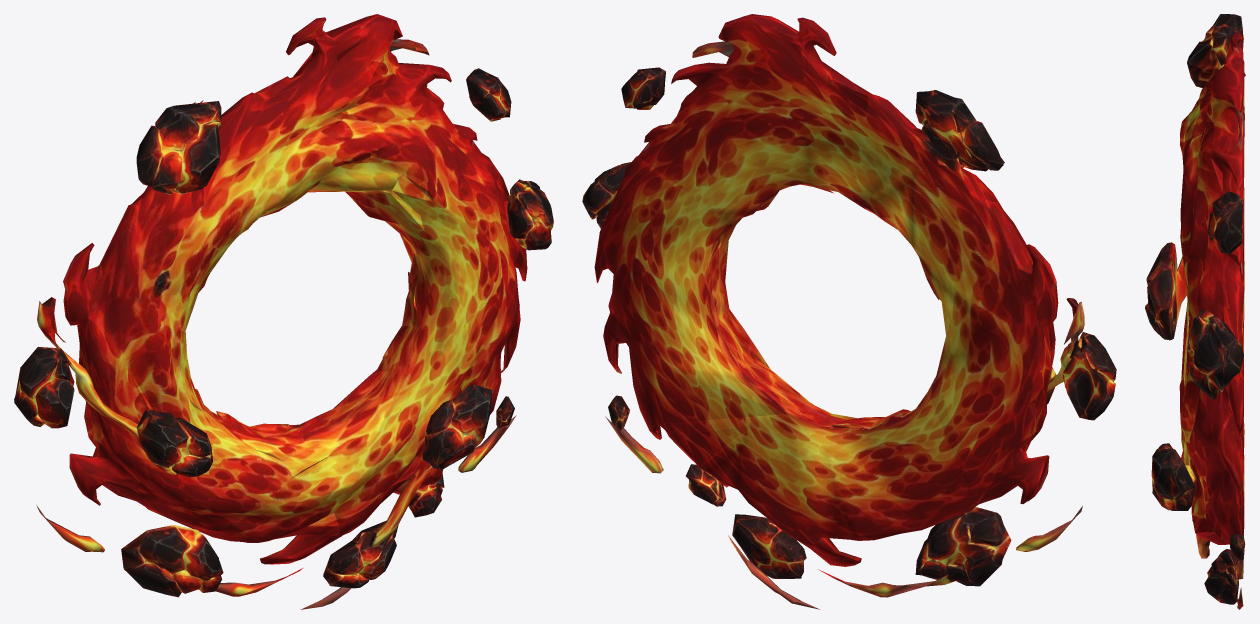
The model's file is trimaw-ring.glb.
3 views of the same model, side by side, from view 1: azimuth 30°, elevation 25°; view 2: azimuth 150°, elevation 25°; view 3: azimuth 270°, elevation 25° (orthographic). The views are drawn at different scales.
Size of the model in its own units: 1.89 by 2 by 0.3223.
Materials: 1 (1 with a texture image).
